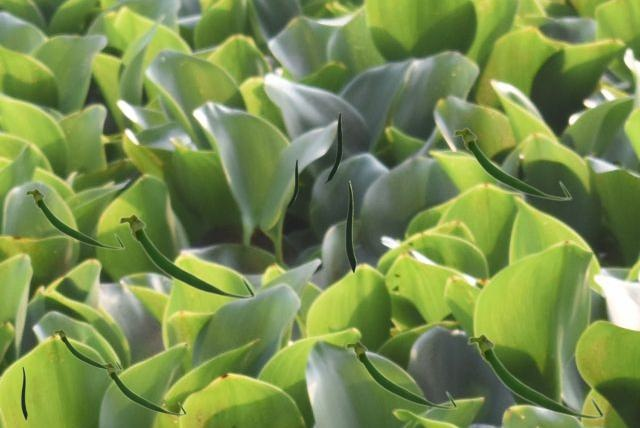french_bean: (466, 333, 604, 419), (117, 213, 255, 299), (452, 127, 571, 200), (344, 339, 457, 409), (24, 187, 124, 249), (99, 361, 186, 415), (53, 328, 121, 370), (324, 112, 341, 182), (345, 180, 355, 272), (286, 159, 297, 208), (21, 366, 26, 419)
